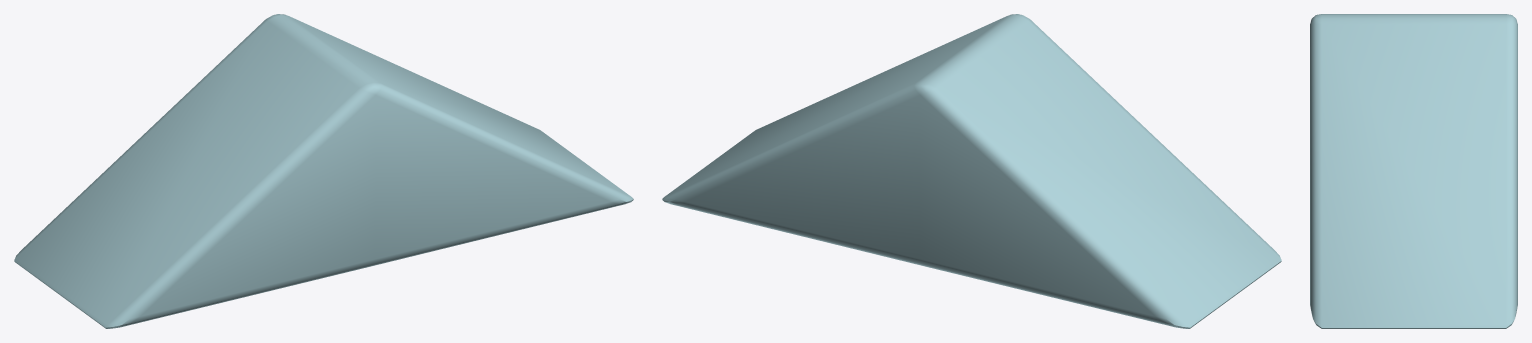
File: triangle brick.fbx
The picture shows the model from 3 angles, left to right: view 1: azimuth 30°, elevation 25°; view 2: azimuth 150°, elevation 25°; view 3: azimuth 270°, elevation 25°; orthographic projection.
Parts seen in each view (by area): view 1: Cube.007; view 2: Cube.007; view 3: Cube.007.
Part boxes in pixels (x1,y1,x2,y2): Cube.007: (14, 14, 633, 328); Cube.007: (662, 14, 1281, 328); Cube.007: (1310, 14, 1517, 328).
Size of the model in its own units: 5.91 by 1.94 by 2.
